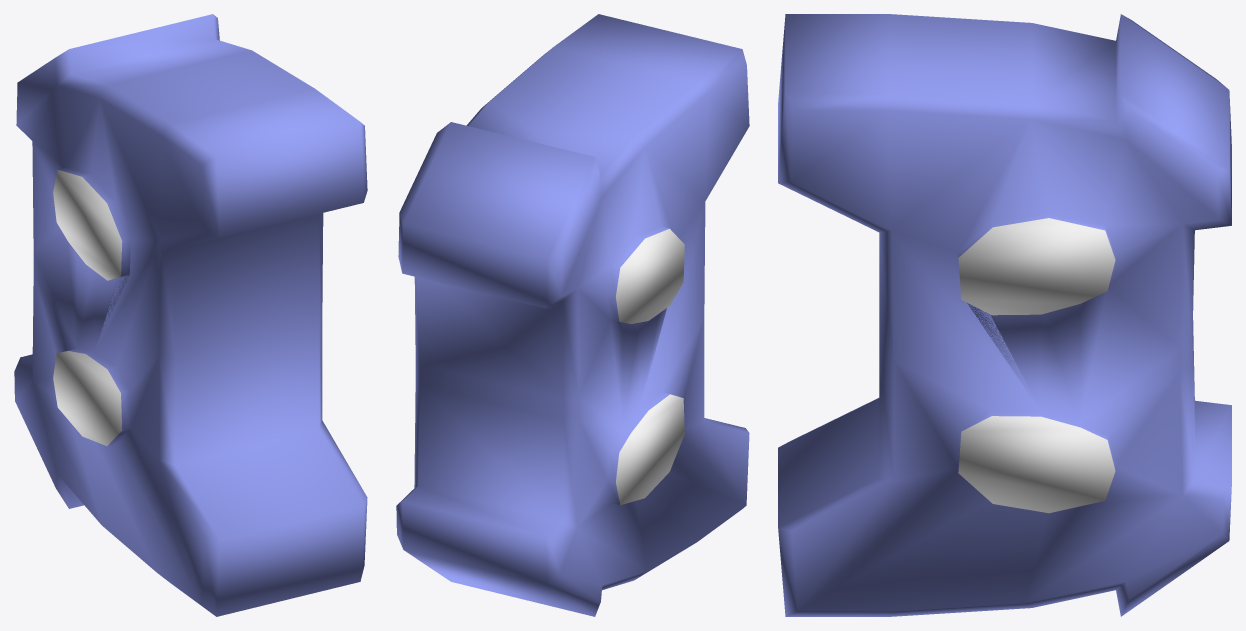
Rendered from item-discord.glb.
3 views of the same model, side by side, from view 1: azimuth 30°, elevation 25°; view 2: azimuth 150°, elevation 25°; view 3: azimuth 270°, elevation 25° (orthographic). The views are drawn at different scales.
Size of the model in its own units: 0.6826 by 1.66 by 1.31.
